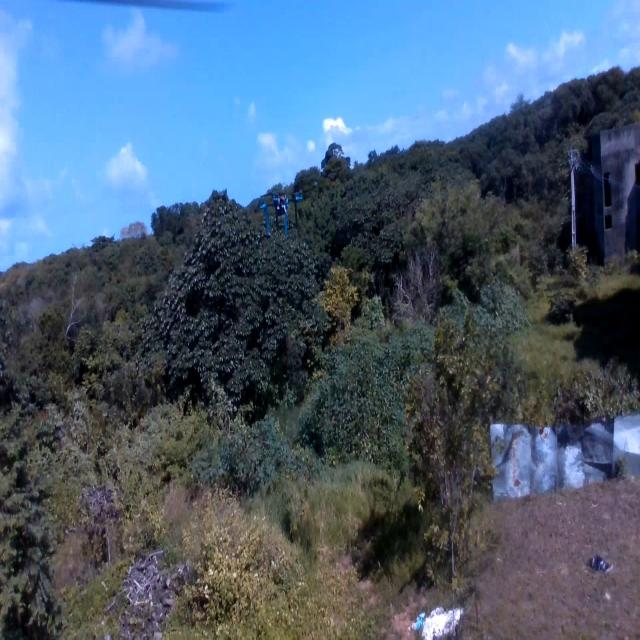-uav-: (258, 184, 306, 234)
